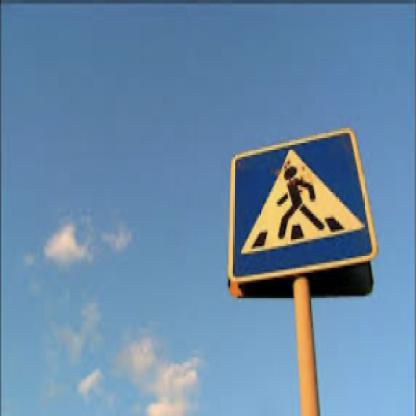crosswalk: (226, 124, 376, 274)
